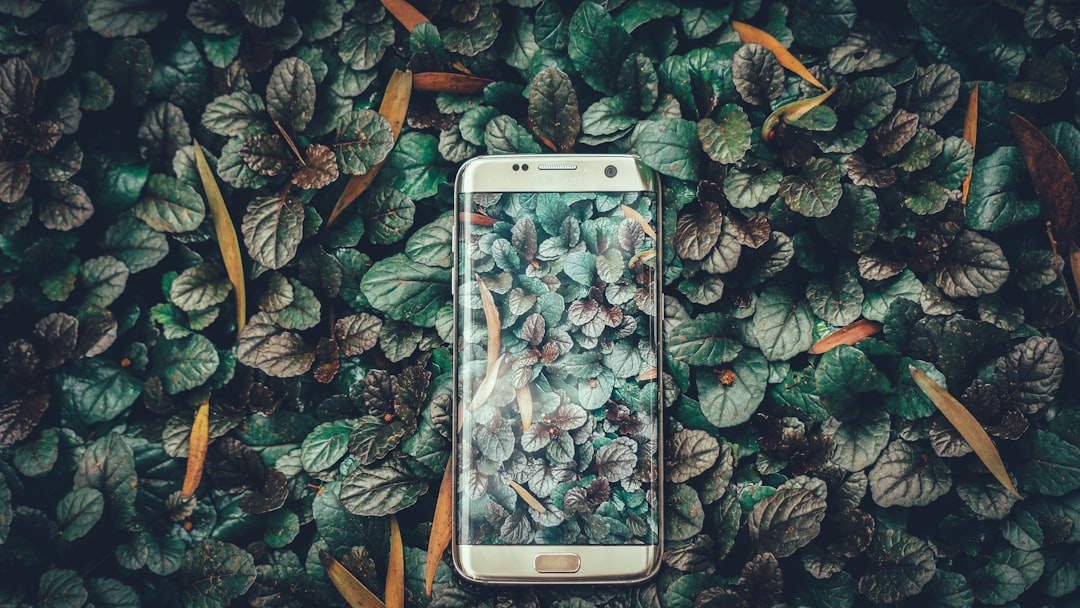phone: (449, 153, 668, 587)
